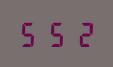five: (18, 20, 42, 47), (44, 20, 68, 47)
two: (69, 20, 93, 47)
